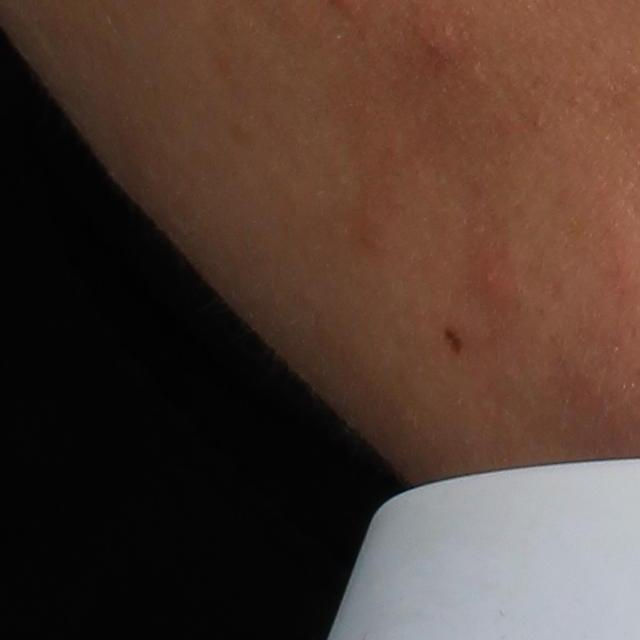nevus: (443, 325, 467, 357)
papule: (417, 13, 467, 65), (468, 250, 510, 305)
